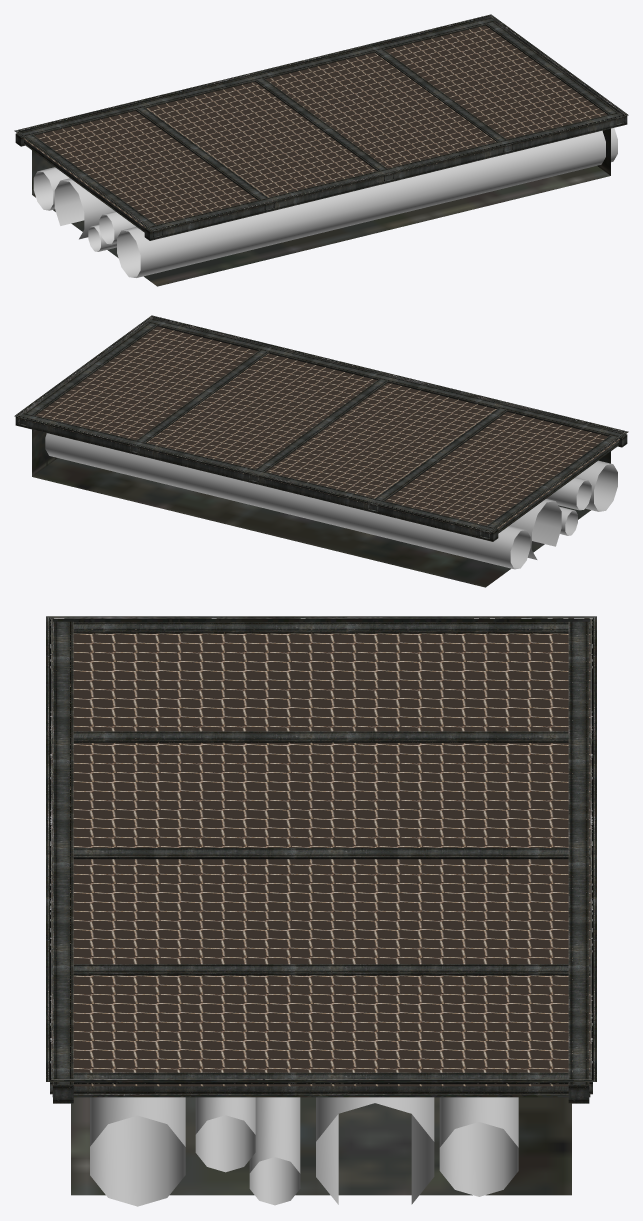
The model's file is tunnels_pipe_pit.DAE.
3 renders of one model, top to bottom at view 1: azimuth 30°, elevation 25°; view 2: azimuth 150°, elevation 25°; view 3: azimuth 270°, elevation 25°, orthographic. The views are drawn at different scales.
Parts seen in each view (by area): view 1: pipe_pit_fence, pipe_pit, pipe_pit_pipe_steel, pipe_pit_pipe_black, pipe_pit_pipe_copper; view 2: pipe_pit_fence, pipe_pit, pipe_pit_pipe_black, pipe_pit_pipe_steel, pipe_pit_pipe_copper; view 3: pipe_pit_fence, pipe_pit, pipe_pit_pipe_black, pipe_pit_pipe_steel, pipe_pit_pipe_copper.
Boxes of the visible parts, x1,y1,x2,y2 form: pipe_pit_fence: (23, 25, 624, 232); pipe_pit: (14, 14, 628, 286); pipe_pit_pipe_steel: (117, 128, 617, 277); pipe_pit_pipe_black: (33, 167, 116, 251); pipe_pit_pipe_copper: (99, 211, 135, 244); pipe_pit_fence: (17, 326, 619, 533); pipe_pit: (14, 315, 628, 587); pipe_pit_pipe_black: (45, 433, 577, 569); pipe_pit_pipe_steel: (576, 460, 617, 511); pipe_pit_pipe_copper: (546, 477, 591, 510); pipe_pit_fence: (52, 629, 590, 1086); pipe_pit: (46, 616, 596, 1195); pipe_pit_pipe_black: (249, 1097, 518, 1205); pipe_pit_pipe_steel: (90, 1094, 185, 1206); pipe_pit_pipe_copper: (195, 1097, 255, 1172).
Size of the model in its own units: 4 by 0.5 by 2.
